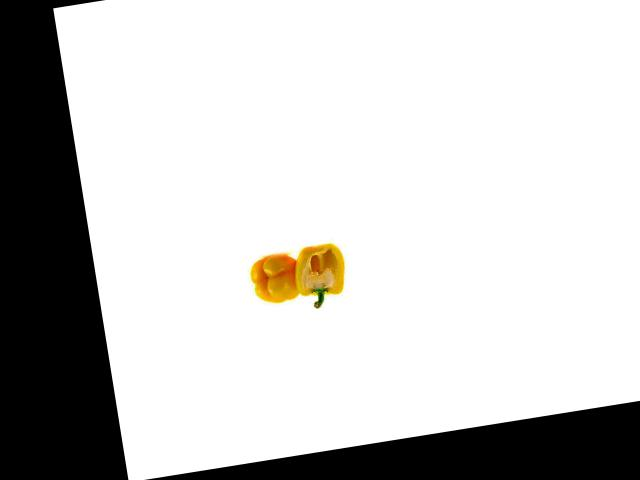bell_pepper: (279, 229, 354, 313)
